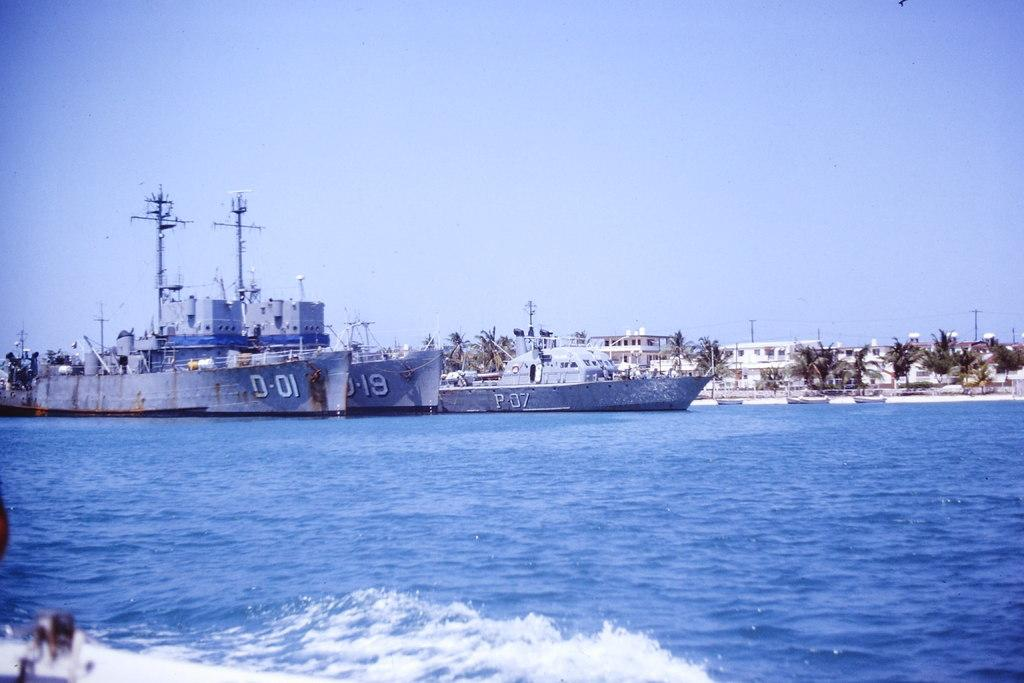Warship: (2, 192, 360, 416), (216, 192, 444, 424), (432, 296, 720, 416)
